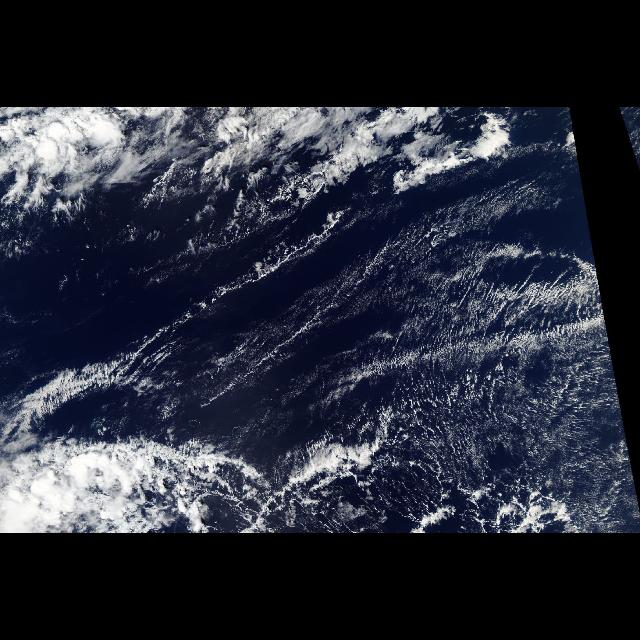Gravel: (352, 189, 636, 531)
